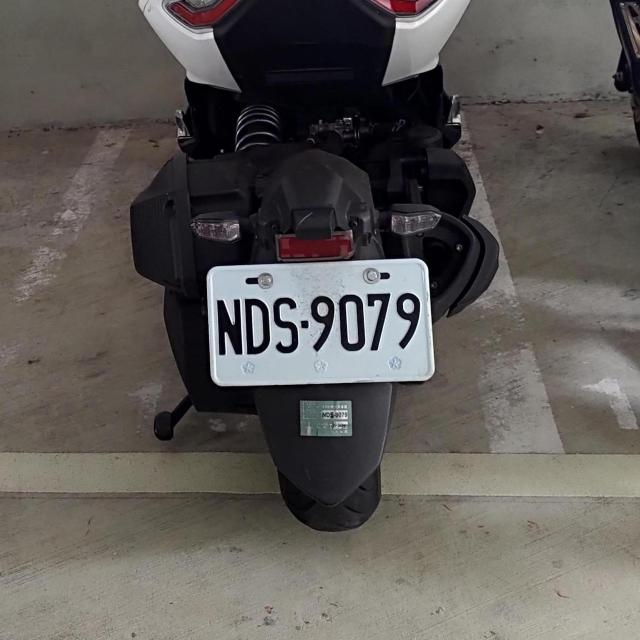W: (207, 258, 431, 387)
